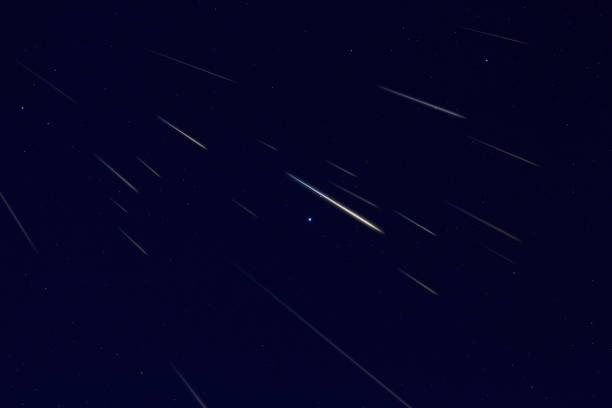meteor: (450, 108, 470, 125), (371, 224, 390, 239), (200, 141, 214, 158), (228, 73, 242, 89), (425, 230, 443, 241), (428, 288, 446, 299), (509, 233, 525, 245), (515, 35, 528, 48), (140, 248, 154, 260), (528, 162, 544, 171), (248, 210, 259, 219), (27, 236, 35, 248), (368, 202, 380, 210), (58, 89, 66, 99), (132, 187, 141, 195), (123, 209, 131, 217), (348, 171, 356, 179), (155, 171, 162, 179), (271, 146, 279, 153)
